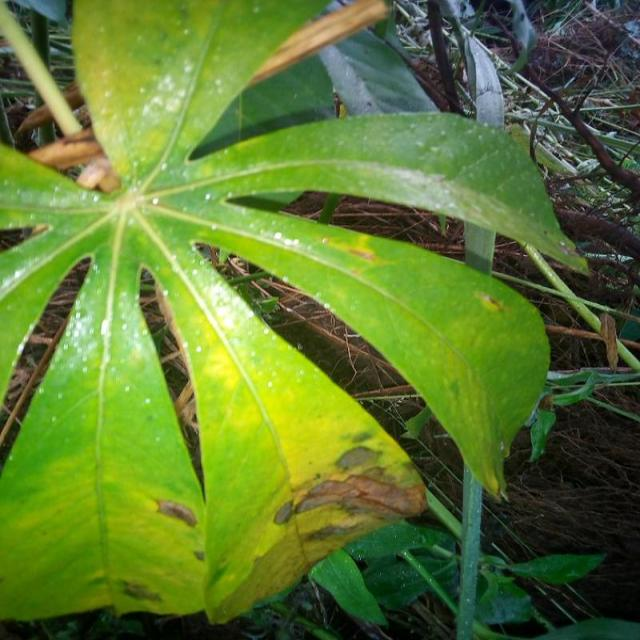cassava leaf: (0, 0, 584, 626)
